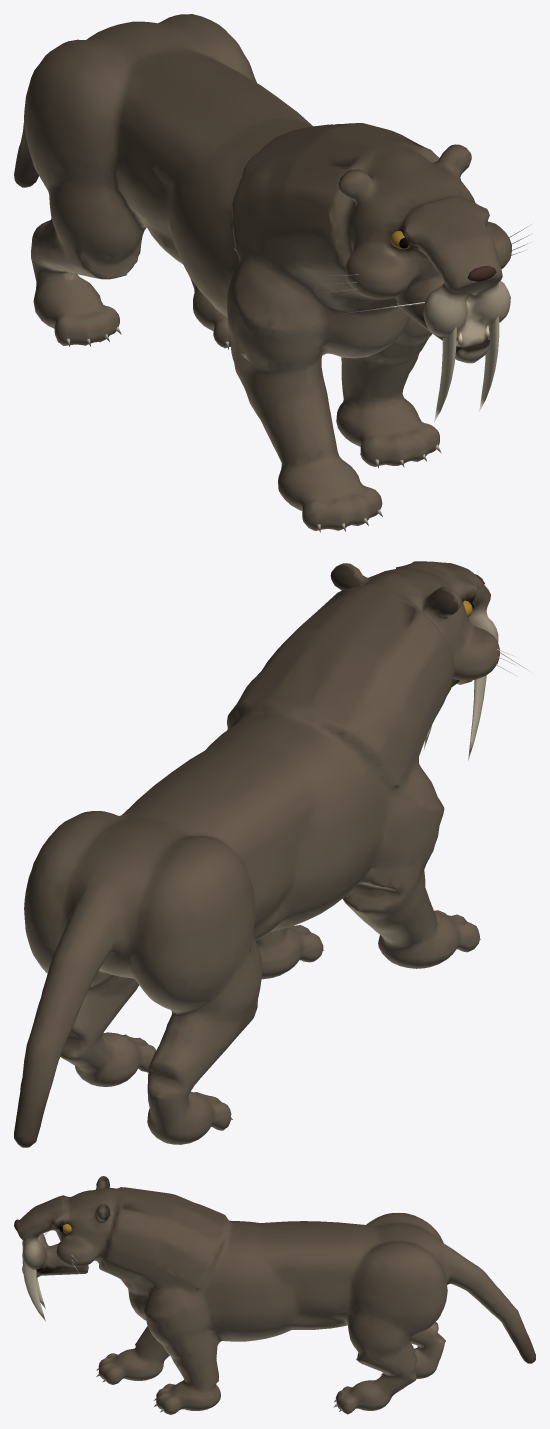
Rendered from ThylacosmilusAtrox.fbx.
3 renders of one model, top to bottom at view 1: azimuth 30°, elevation 25°; view 2: azimuth 150°, elevation 25°; view 3: azimuth 270°, elevation 25°, orthographic. The views are drawn at different scales.
Parts seen in each view (by area): view 1: ThylacosmilusAtrox; view 2: ThylacosmilusAtrox; view 3: ThylacosmilusAtrox.
Boxes of the visible parts, box(x1,y1,x2,y2) form: ThylacosmilusAtrox: box(14, 14, 532, 532); ThylacosmilusAtrox: box(14, 561, 530, 1147); ThylacosmilusAtrox: box(14, 1176, 535, 1414).
Bounding box in the file's own units: 0.5654 × 0.8991 × 2.09.
